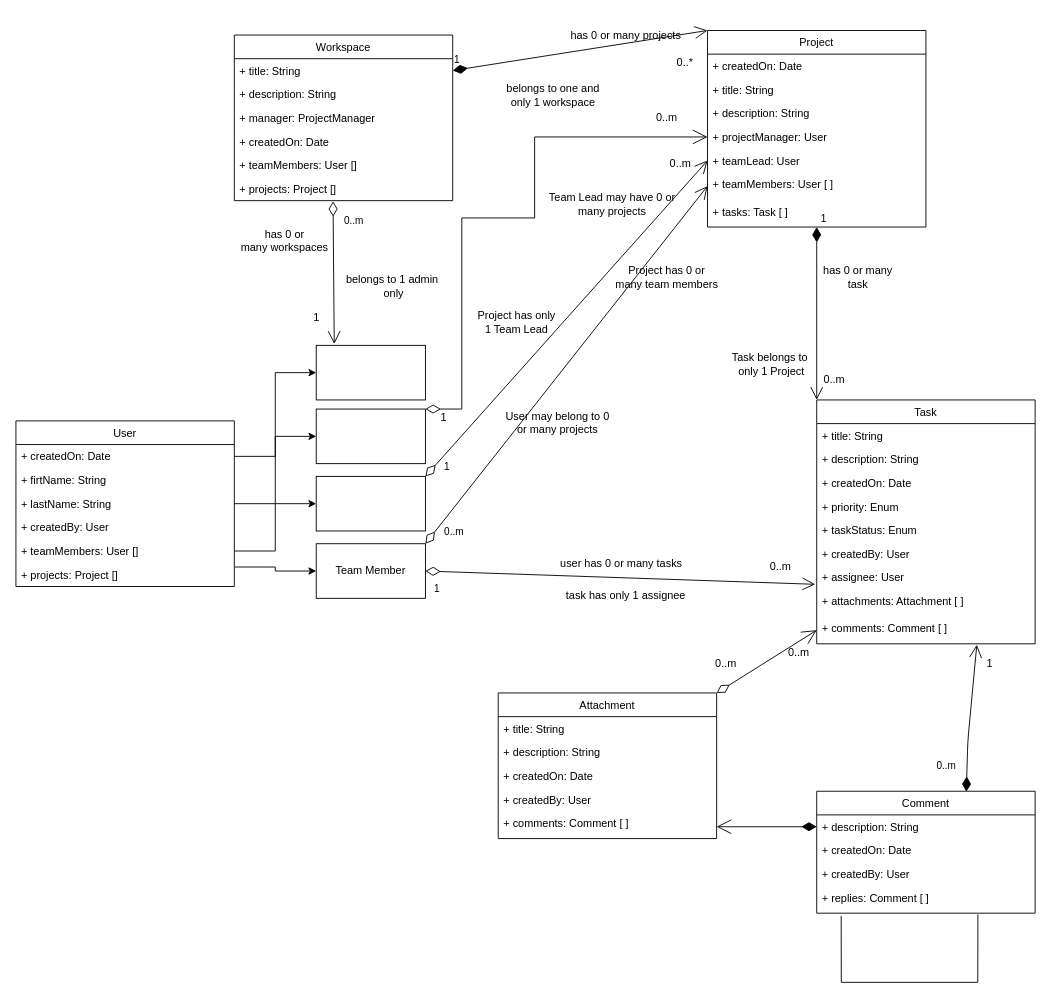
The diagram is 1051 pixels wide and 999 high, and some of its shapes have lost their labels. The shapes that lost their labels are listed below. From the top down, each one's box as (x1, y1, x2, y2) in pixels, then its label:
(315, 344, 425, 400): Admin
(315, 408, 425, 464): Project Manager
(315, 475, 425, 531): Team Lead
